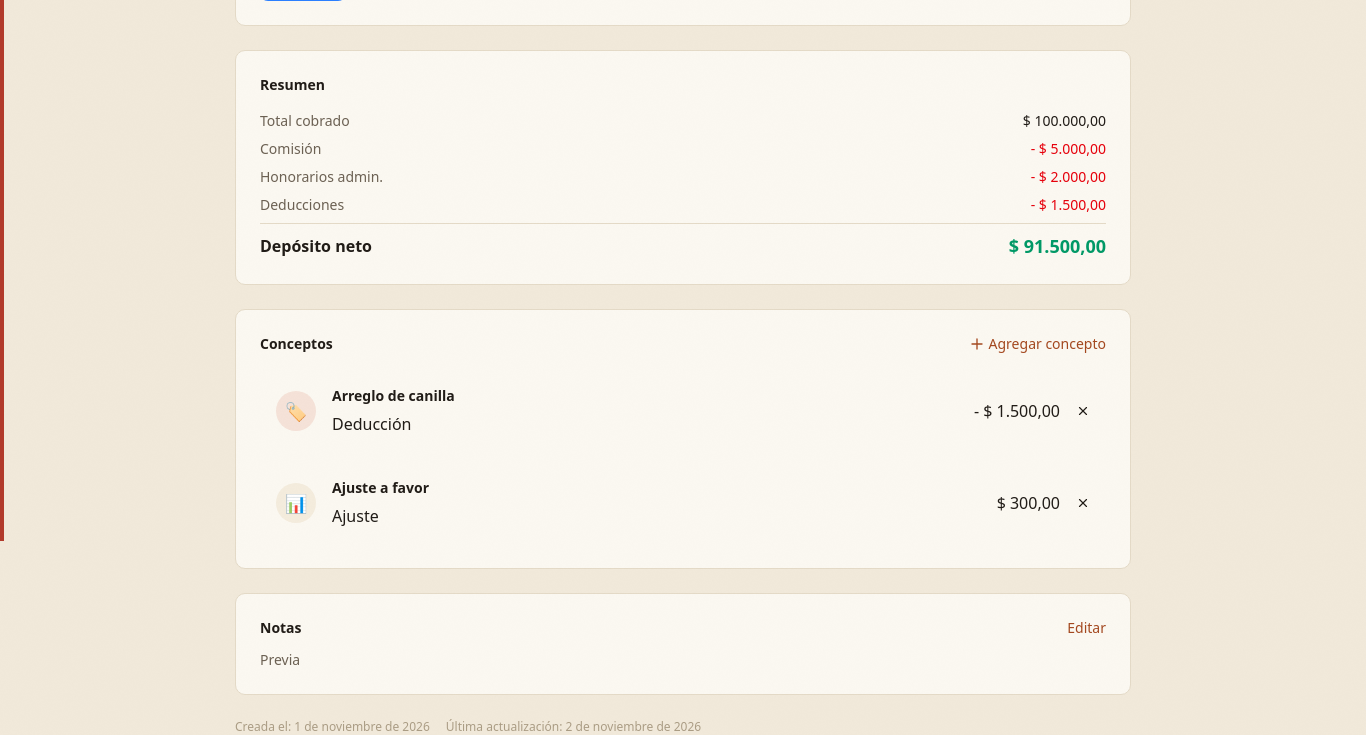
Scenario: RenditionDetail › edita y guarda las notas, y permite cancelar
The width and height of the screenshot is (1366, 735).
(page scrolled)
Click the button "Editar" at {"x": 1087, "y": 628}, box [1067,618,1106,638]
(page scrolled)
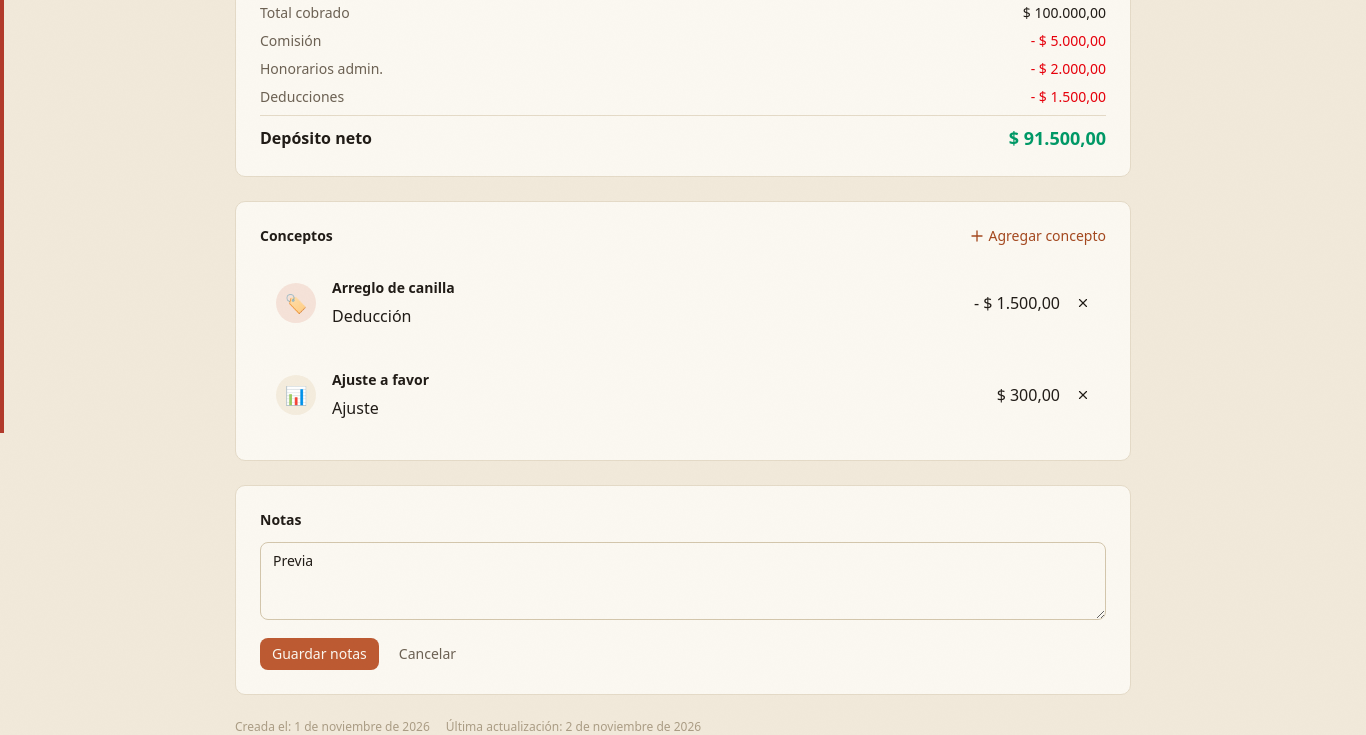
Click the button "Cancelar" at {"x": 427, "y": 654}, box [387,638,468,670]
(page scrolled)
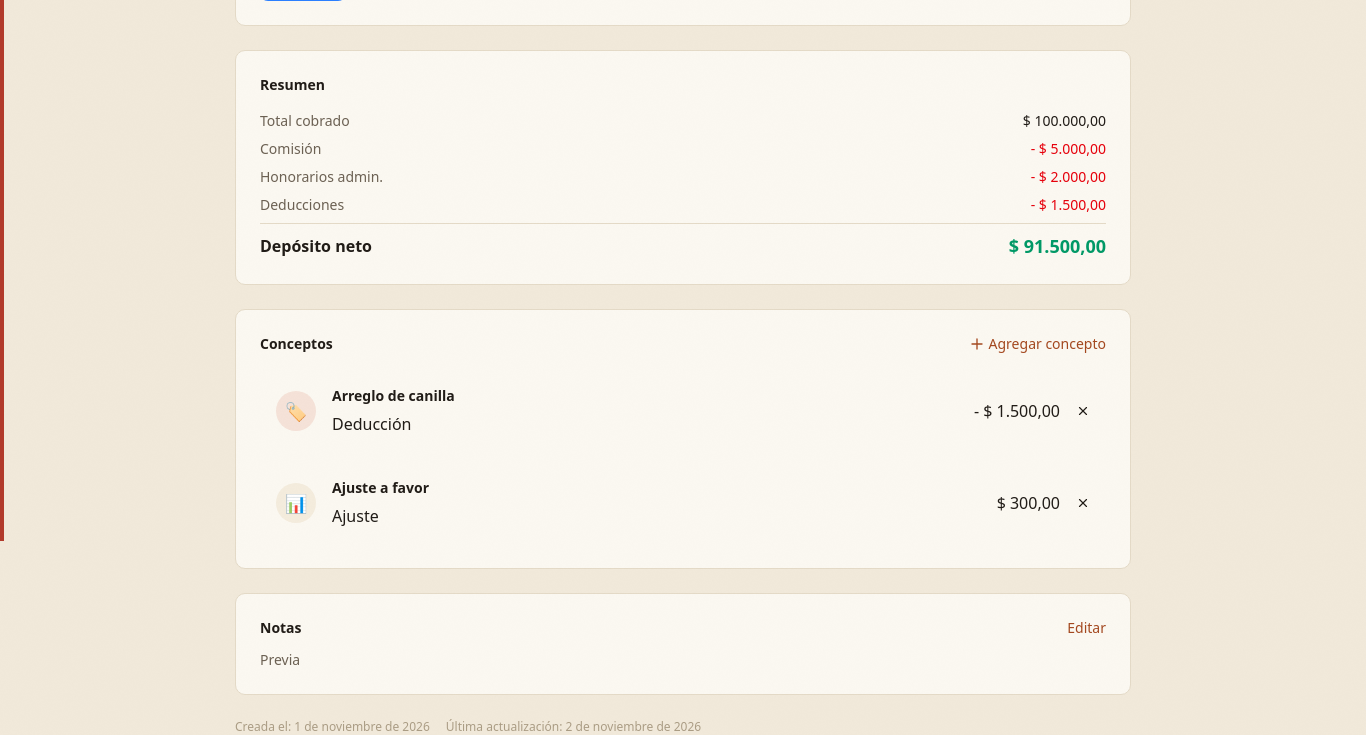
Check: the text "Previa" is shown, box [260,650,300,669]
Click the button "Editar" at {"x": 1087, "y": 628}, box [1067,618,1106,638]
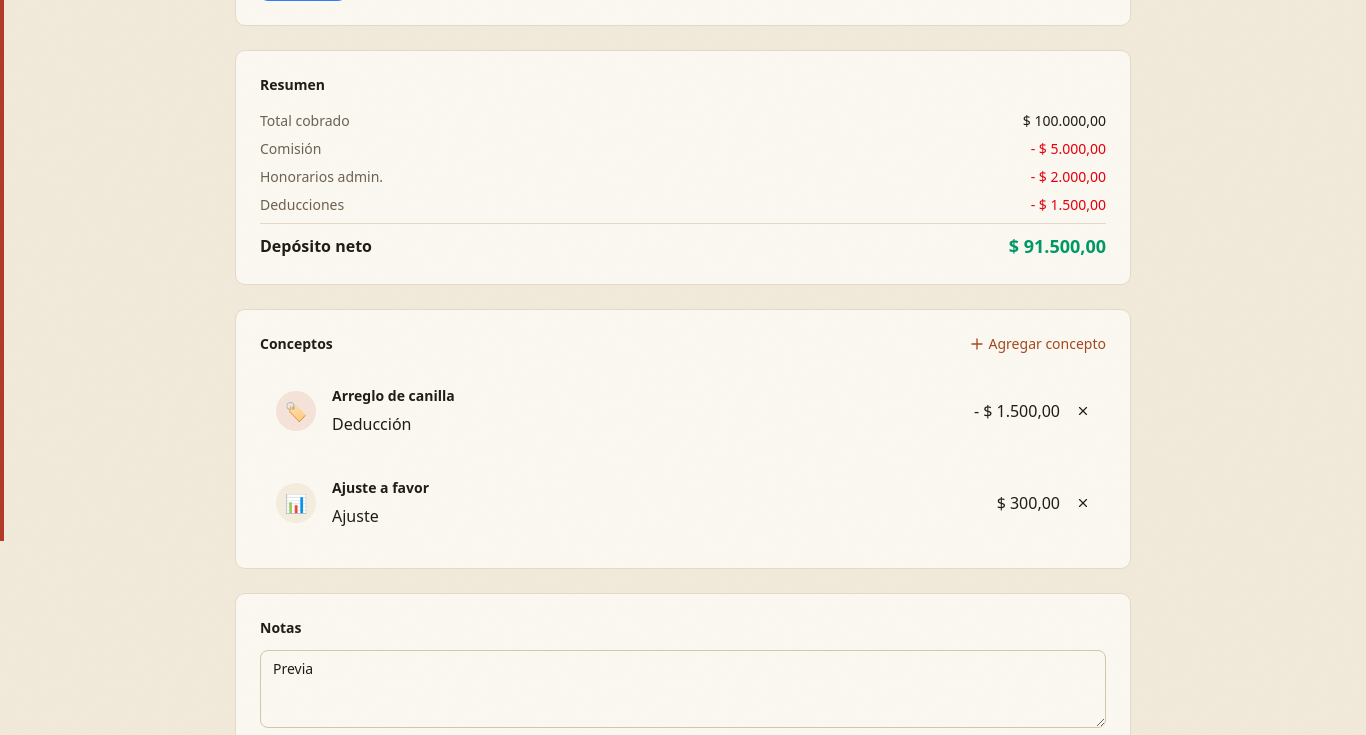
Replace the text in the text box with placeholder "Agregar notas…" with "Nueva" at {"x": 683, "y": 689}, box [260,650,1106,728]
(page scrolled)
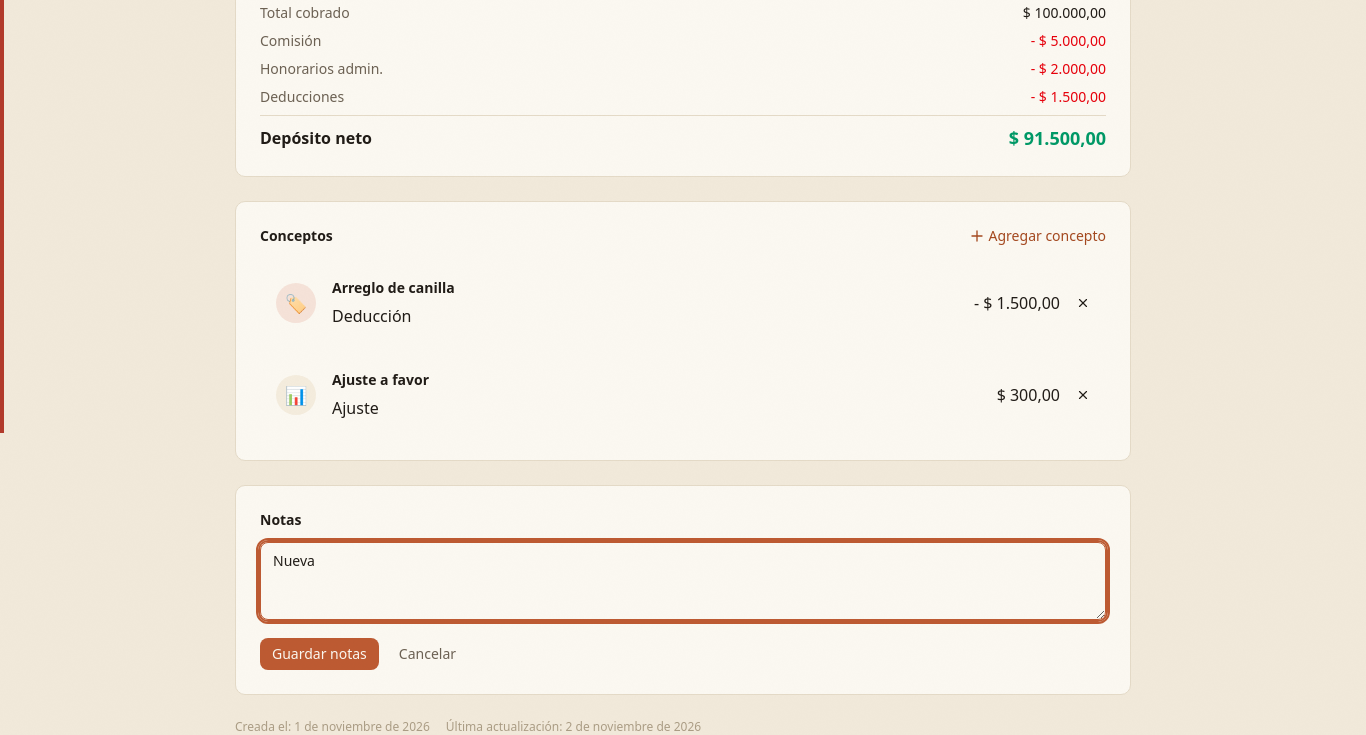
Click the button "Guardar notas" at {"x": 319, "y": 654}, box [260,638,379,670]
(page scrolled)
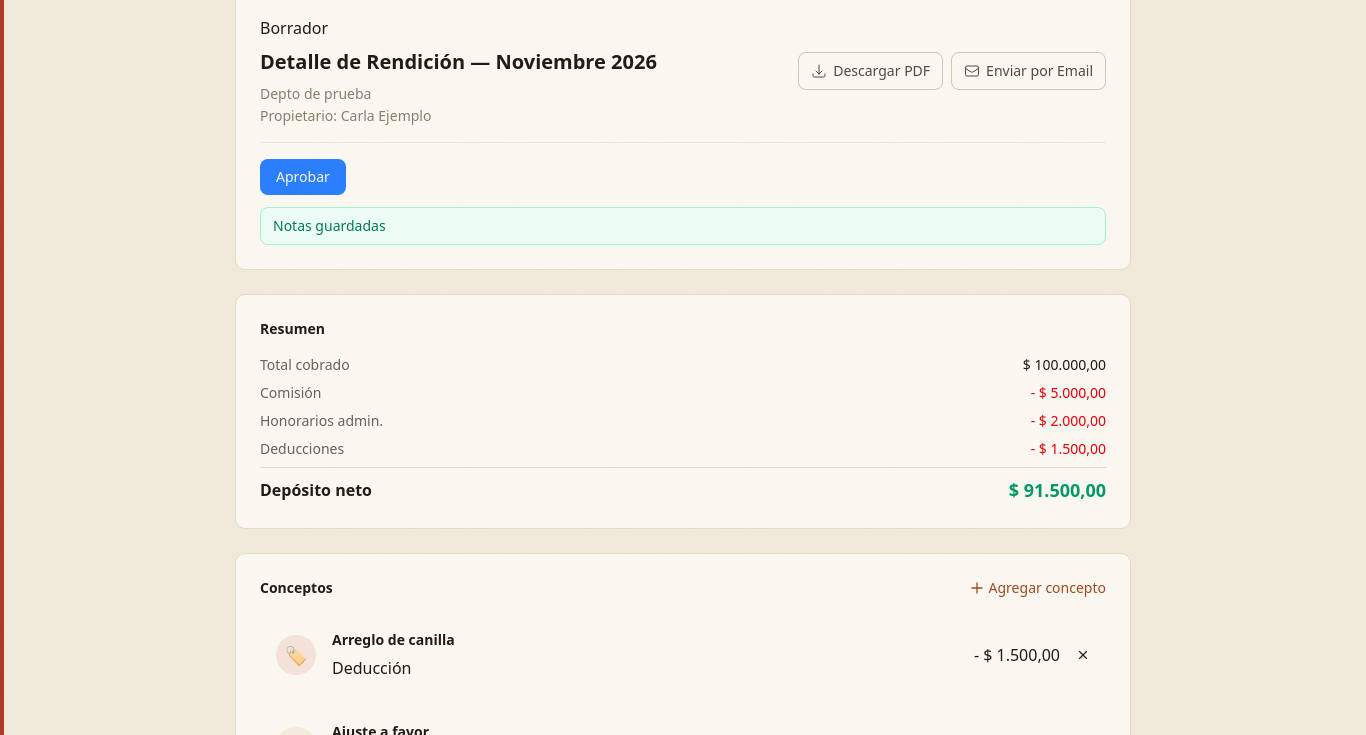
Check: the text "Notas guardadas" is shown, box [260,207,1106,245]
